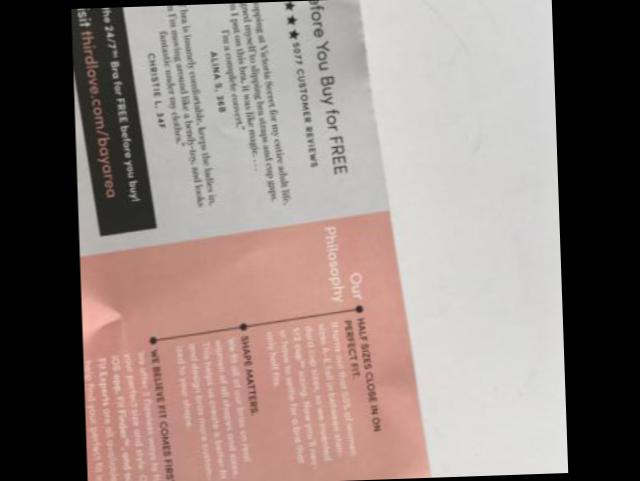cardboard paper: (71, 0, 431, 481)
